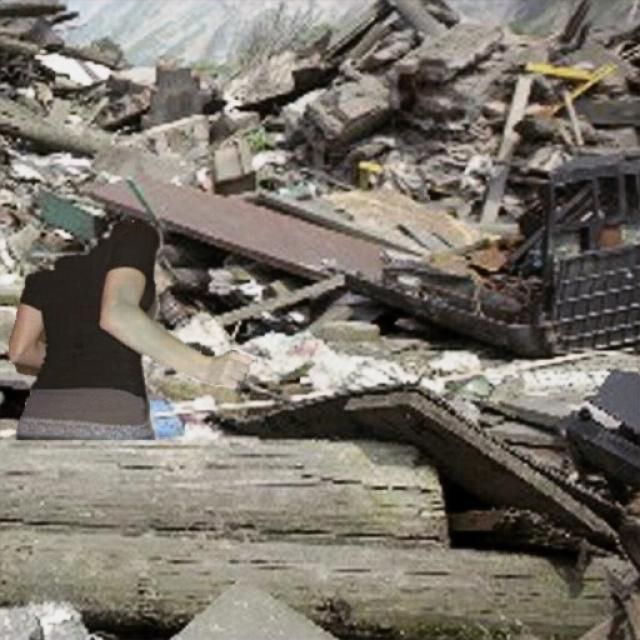Person in Rubble: (8, 220, 256, 439)
